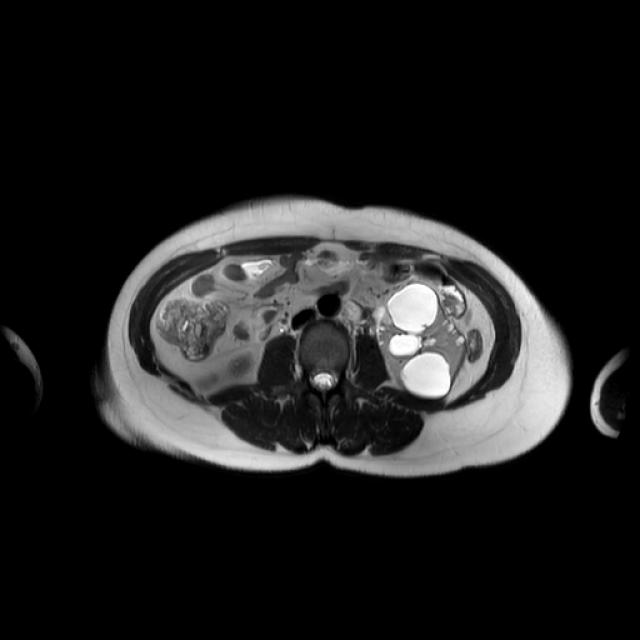sag: (229, 351, 255, 378), (197, 368, 220, 388)
sol: (380, 283, 465, 400)
